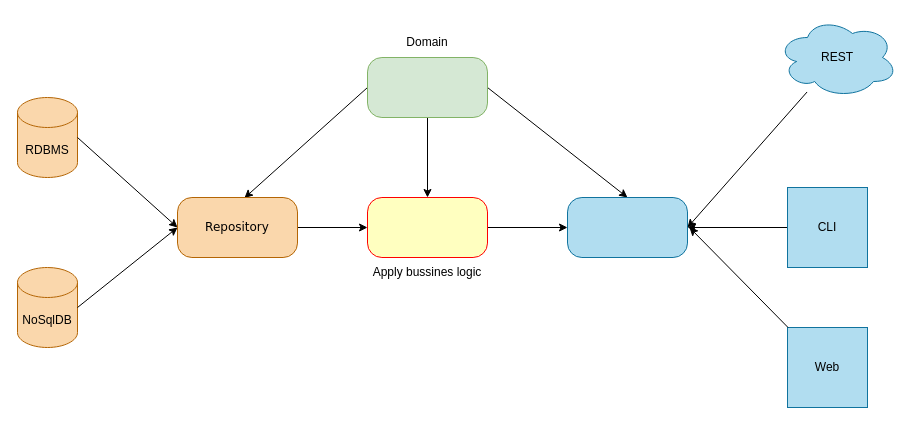
Image size: 915x425. Some labels were removed from this diagram. The centre of each missing label's shape, as x and y in pixels:
"Controller/Delivery" goes at (627,227).
"Entity" goes at (427,87).
"UseCase/Service" goes at (427,227).
